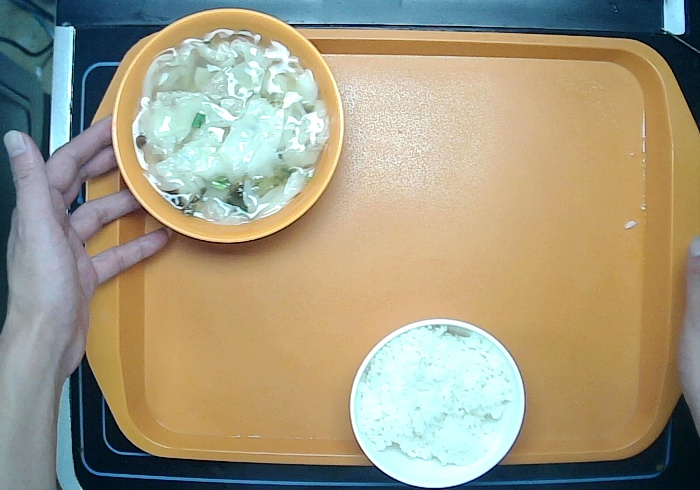NLDX-Fan_Wan: (347, 315, 528, 490)
NLDX-Hun_Tun_Wan: (110, 5, 347, 244)
